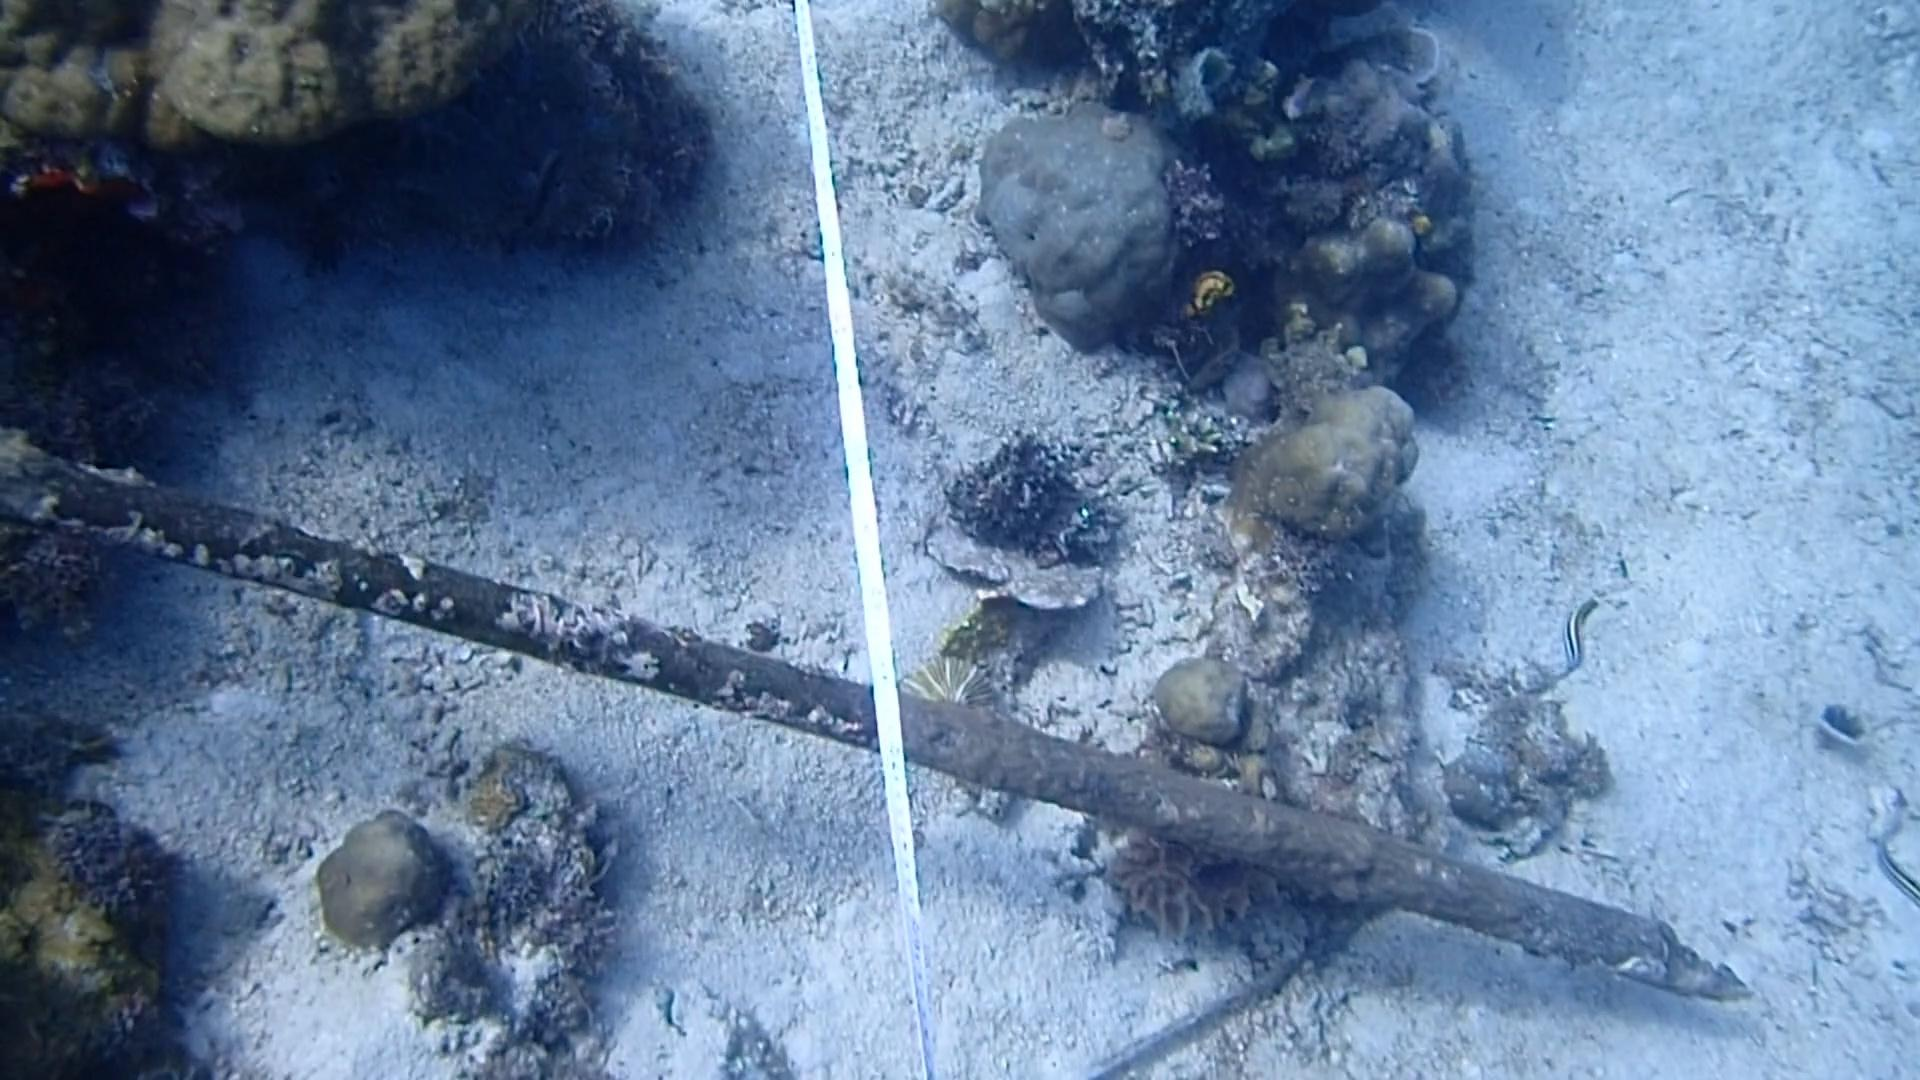Dark Fish: (505, 144, 587, 228)
Striped Fish: (1544, 580, 1615, 675), (1867, 839, 1920, 914)
